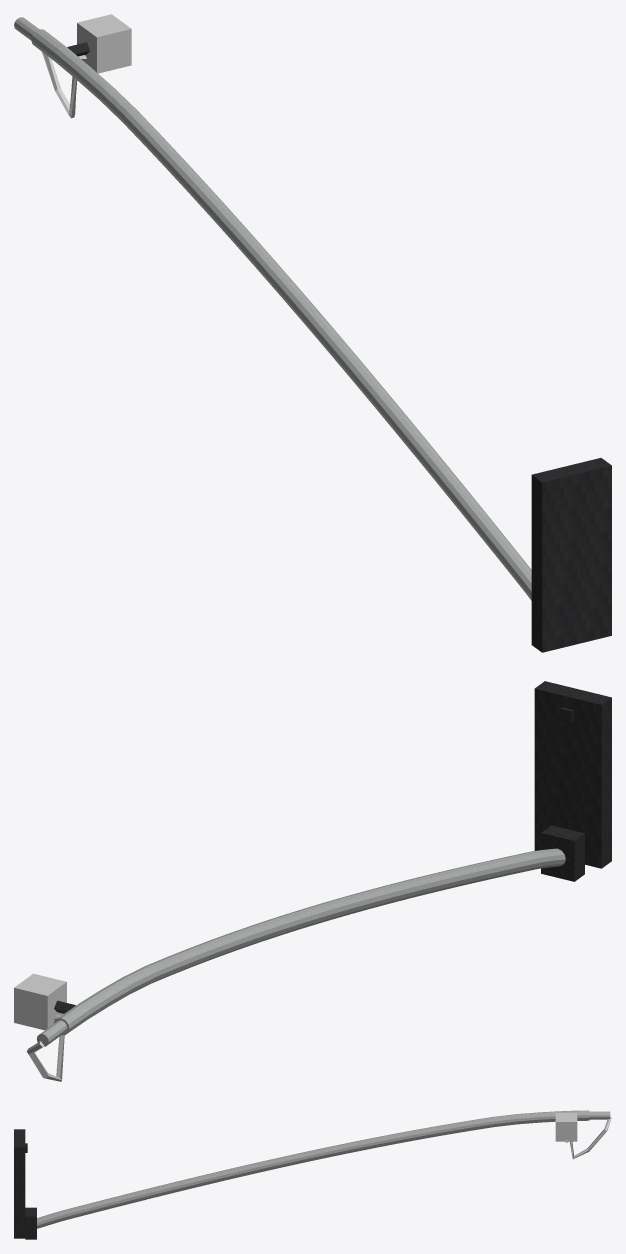
The model's file is arm_5_straight_right_wired.obj.
3 views of the same model, one above another, from view 1: azimuth 30°, elevation 25°; view 2: azimuth 150°, elevation 25°; view 3: azimuth 270°, elevation 25° (orthographic). The views are drawn at different scales.
Visible parts, largest first — view 1: pole_light_mount_5_straight_right_wired; view 2: pole_light_mount_5_straight_right_wired; view 3: pole_light_mount_5_straight_right_wired.
Boxes of the visible parts, box(x1,y1,x2,y2) form: pole_light_mount_5_straight_right_wired: box(14, 14, 611, 652); pole_light_mount_5_straight_right_wired: box(14, 681, 611, 1081); pole_light_mount_5_straight_right_wired: box(14, 1110, 611, 1239).
Bounding box in the file's own units: 0.5175 × 1.24 × 5.2.
